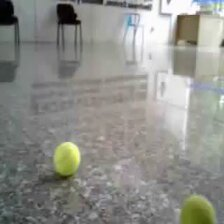tennis: (178, 195, 217, 224), (54, 141, 80, 175)
